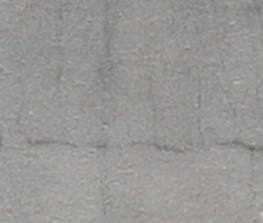fissura: (8, 100, 263, 159)
